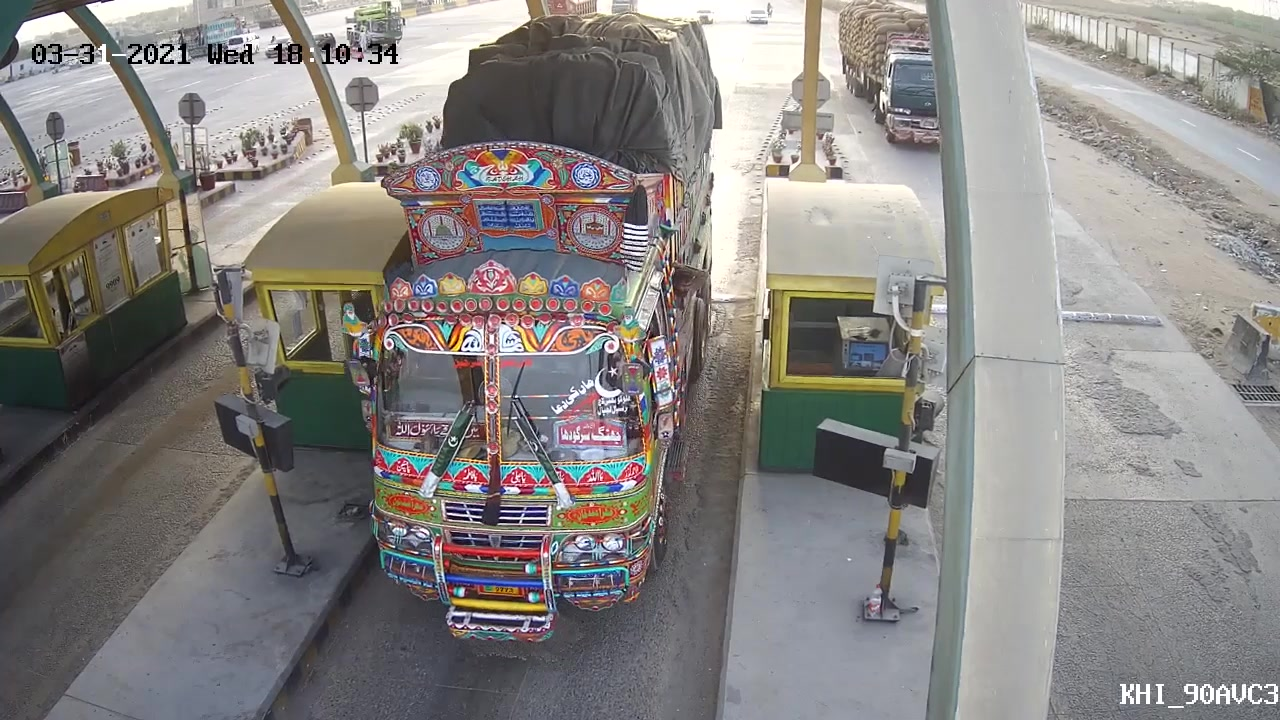F5: (334, 89, 719, 669)
